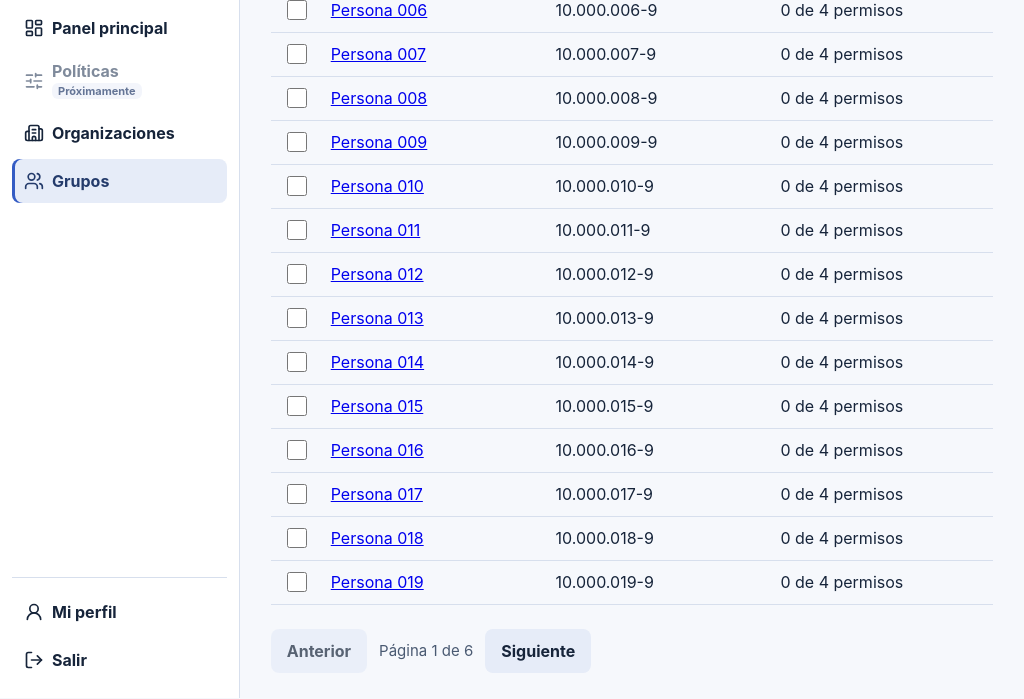
Test: a group with more than one page of members › pages the members table and reaches the last page
(page scrolled)
Expected: the text "Página 1 de 6" is shown, [379,639,473,663]
Step 1. Click the button "Siguiente" → (538, 651), box [485,629,591,673]
(page scrolled)
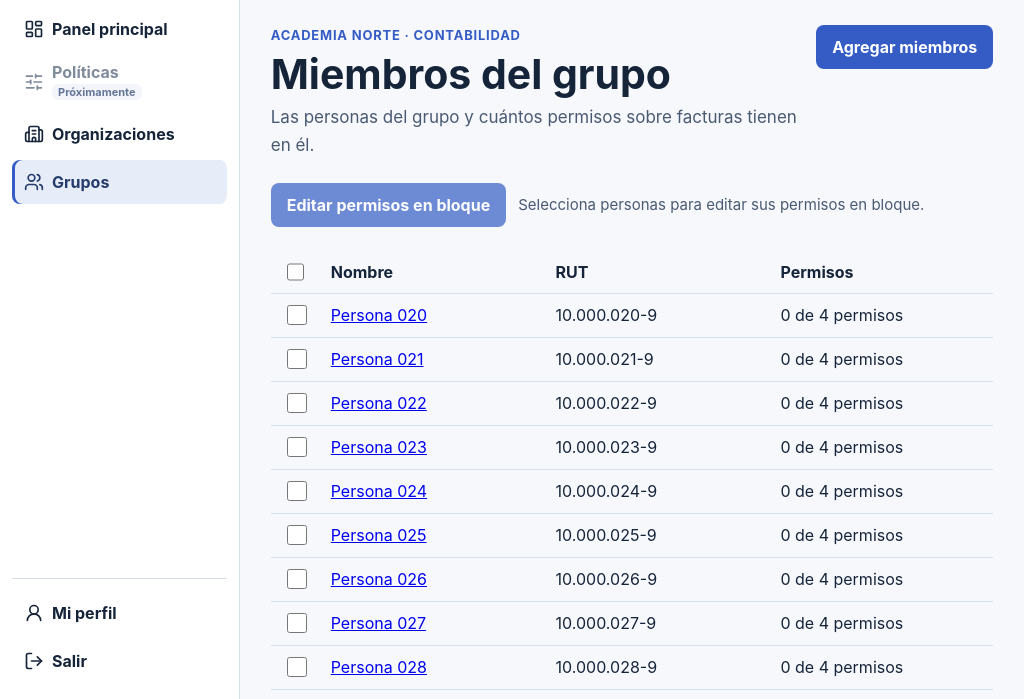
Expected: the link "Persona 020" is shown, [331,305,427,325]
